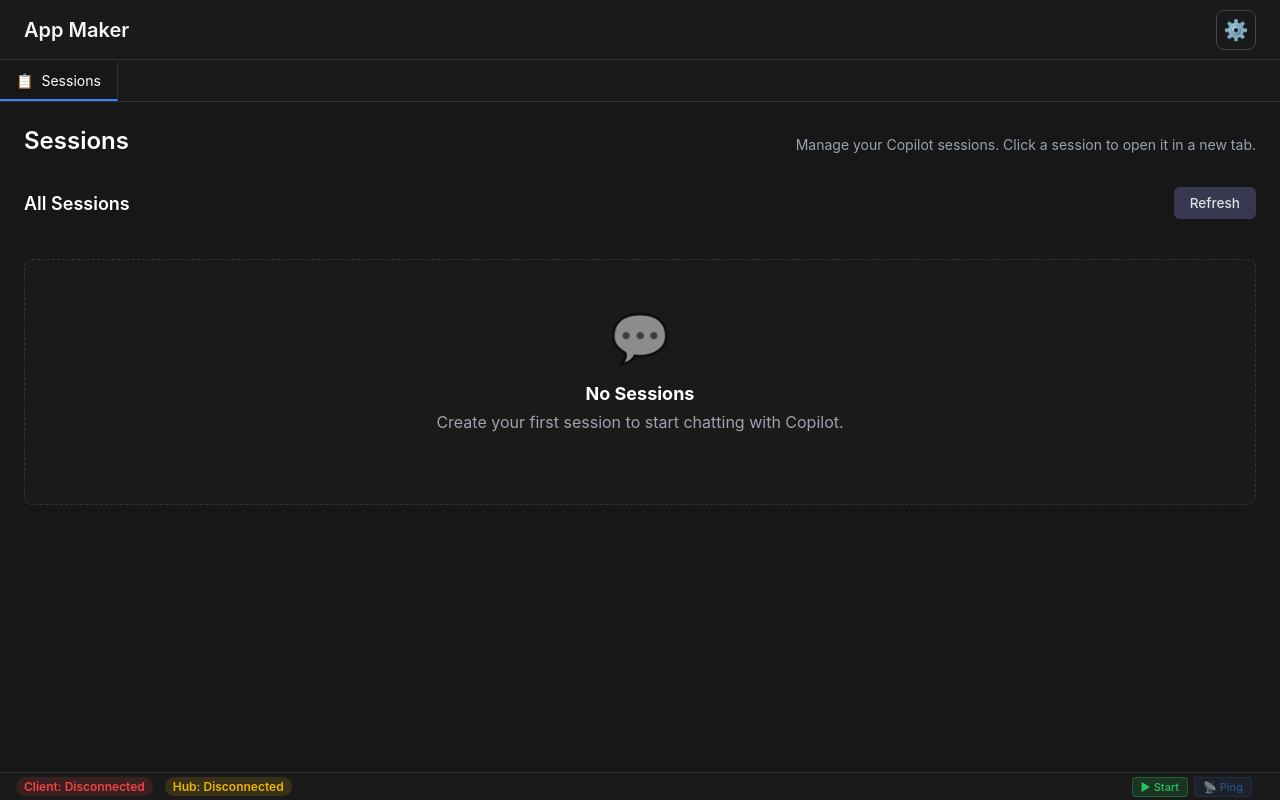
Test: MainLayout › opens config modal when settings button is clicked
The image size is (1280, 800).
Click the button with test id "settings-button" at (1236, 30), box top-left (1216, 10), bottom-right (1256, 50)
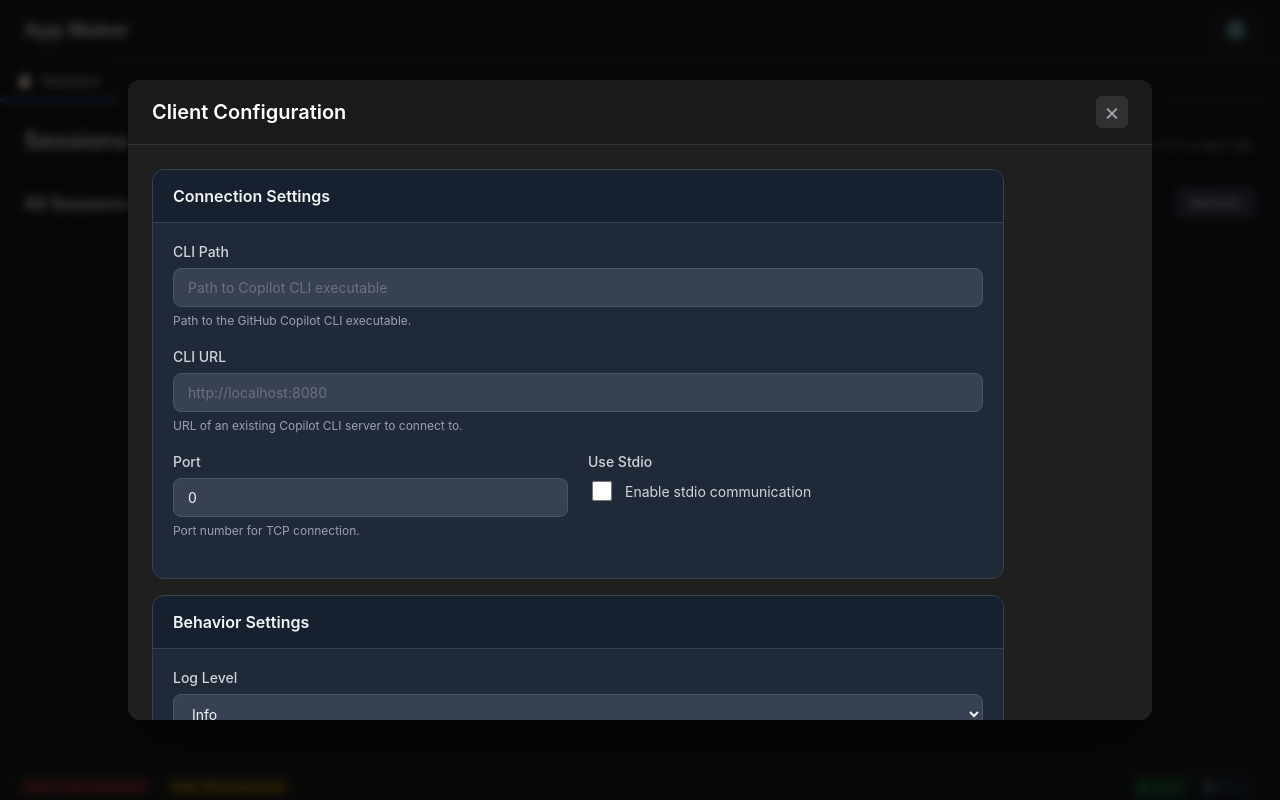
Now the element with test id "client-config-modal" is shown
